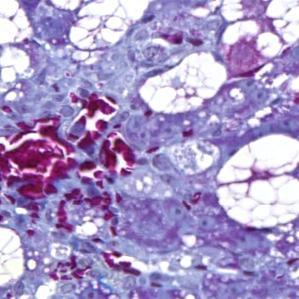ballooning: (216, 132, 297, 229), (137, 51, 230, 113), (69, 5, 133, 53), (3, 224, 27, 288)
